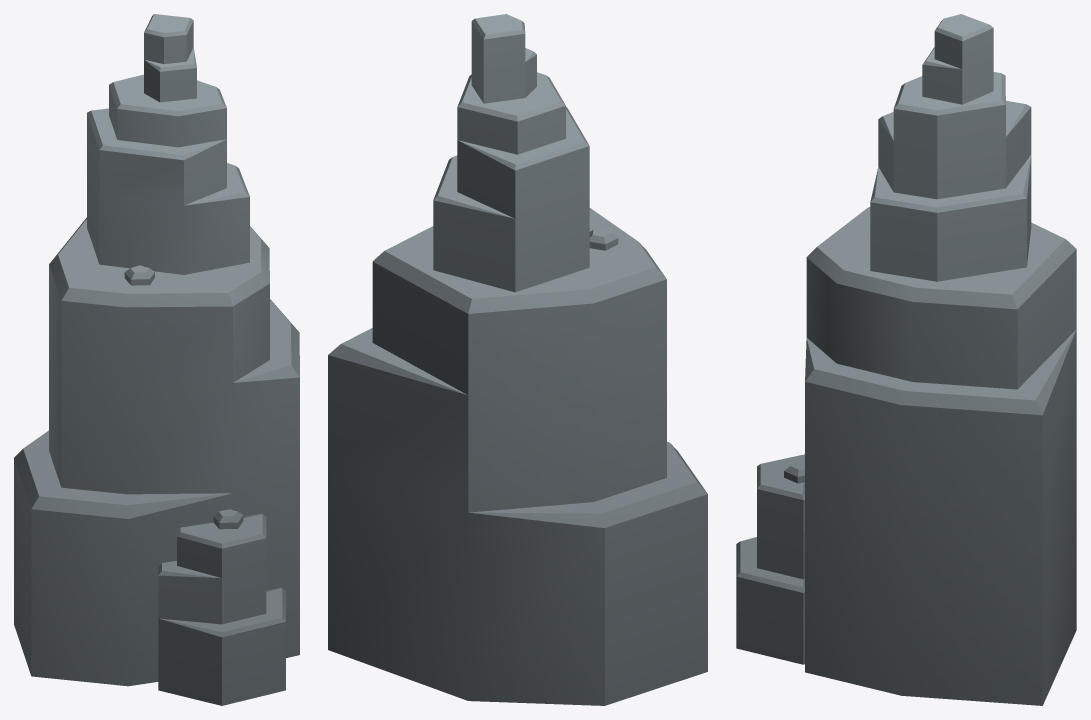
File: Rock_1_N_Color1.glb
3 renders of one model, left to right at view 1: azimuth 30°, elevation 25°; view 2: azimuth 150°, elevation 25°; view 3: azimuth 270°, elevation 25°, orthographic. The views are drawn at different scales.
Parts seen in each view (by area): view 1: Rock_1_N_Color1; view 2: Rock_1_N_Color1; view 3: Rock_1_N_Color1.
Boxes of the visible parts, x1,y1,x2,y2 form: Rock_1_N_Color1: (14,14,299,705); Rock_1_N_Color1: (328,14,707,705); Rock_1_N_Color1: (736,14,1076,705).
Size of the model in its own units: 2.3 by 4.5 by 2.24.
Materials: 1 (1 with a texture image).
